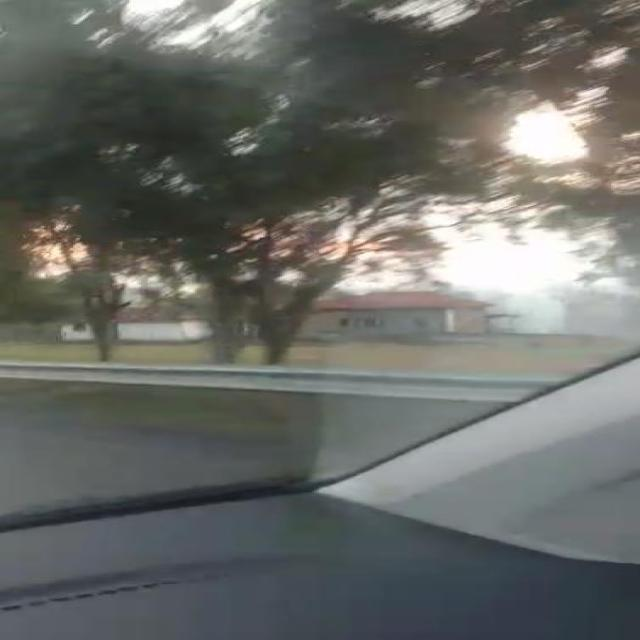Smoke: (10, 4, 448, 160)
